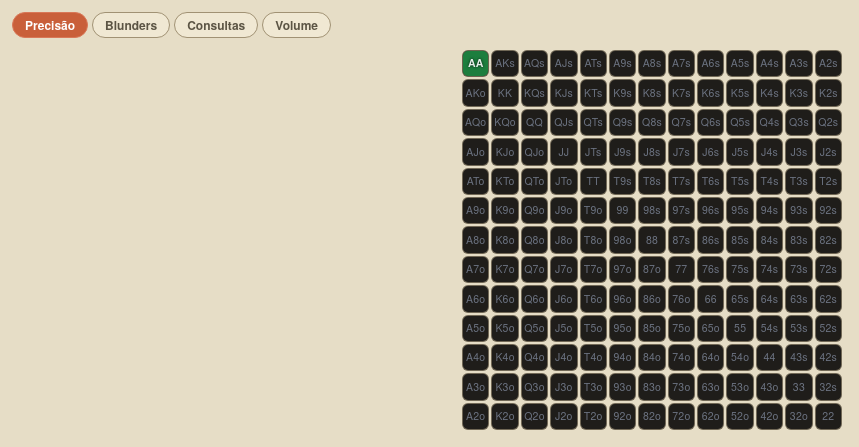
RangeHeatGrid › tooltip mostra a ação mais errada (topWrong)
Hover over the text "AA" at (476, 64), box [468,58,484,69]
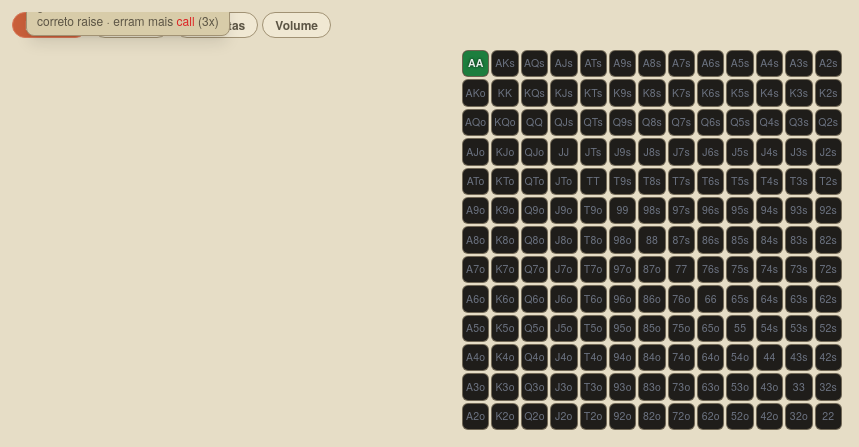
Now the text "correto raise · erram mais call (3x)" is shown, box [37,13,219,29]
Now the text "call" is shown, box [177,12,195,29]
